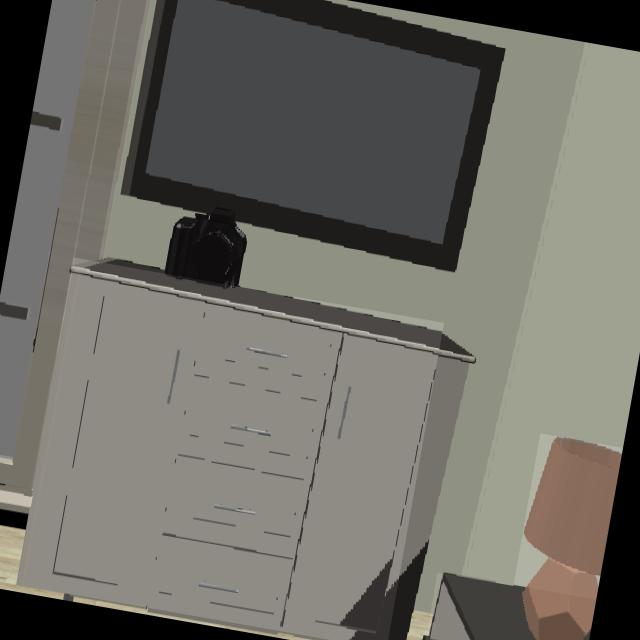cabinet: (22, 261, 435, 632)
lamp: (522, 438, 621, 640)
nighttable: (430, 574, 533, 640)
